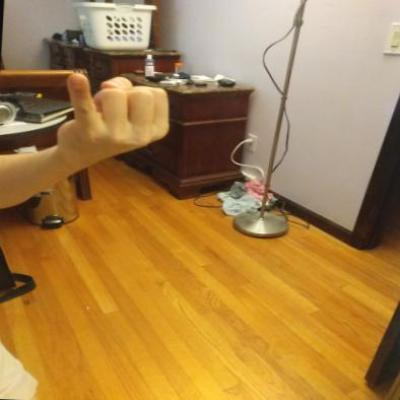hand: (50, 69, 181, 174)
